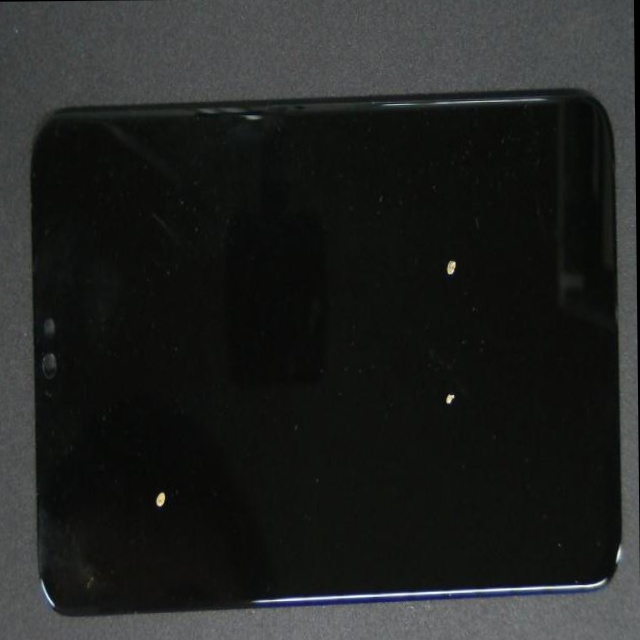stain: (229, 163, 640, 575), (228, 97, 638, 368), (80, 215, 249, 640)
